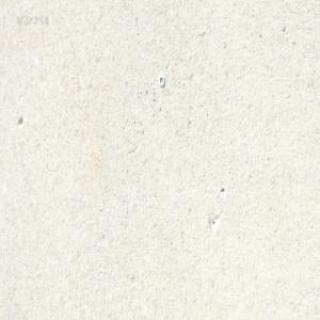Washertrack_idkeyframe: (157, 74, 164, 87)
